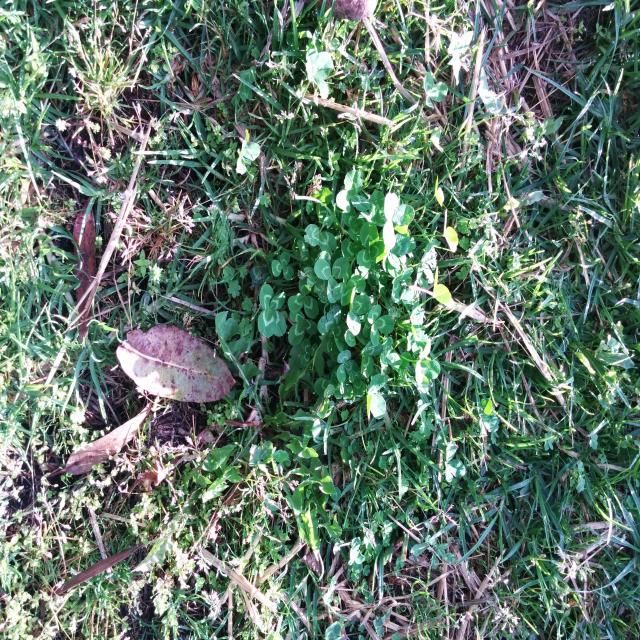Four Leaf Clover: (258, 284, 286, 338)
